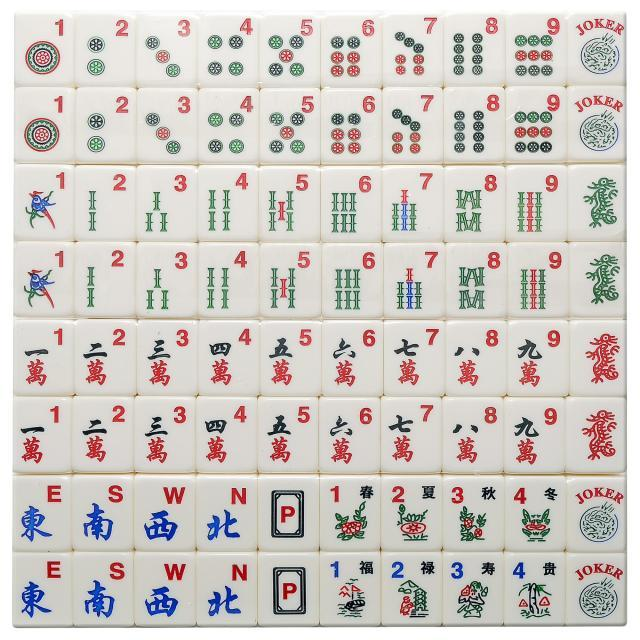bs1: (320, 476, 382, 550), (448, 480, 502, 548)
bs2: (384, 475, 444, 548)
bs4: (506, 477, 566, 551)
hdg: (570, 241, 626, 318), (569, 165, 625, 241)
hdr: (566, 397, 625, 472), (571, 320, 626, 396)
hdw: (258, 478, 318, 554), (260, 553, 320, 625)
hwe: (10, 477, 70, 554), (12, 552, 73, 626)
hwn: (196, 475, 256, 549), (196, 550, 256, 623)
hws: (74, 476, 136, 552), (73, 552, 135, 627)
hww: (134, 474, 196, 549), (137, 551, 194, 624)
sb1: (13, 242, 74, 316), (15, 165, 73, 239)
sb2: (76, 166, 137, 240), (76, 243, 137, 317)
sb3: (138, 244, 200, 320), (138, 167, 196, 241)
sb4: (200, 168, 258, 240), (203, 245, 257, 318)
sb5: (258, 246, 322, 316), (261, 169, 321, 243)
sb6: (324, 244, 384, 318), (323, 168, 383, 242)
sb7: (384, 244, 446, 319), (384, 168, 444, 242)
sb8: (446, 244, 506, 318), (448, 168, 507, 243)
sb9: (508, 167, 568, 242), (508, 244, 568, 318)
sc1: (13, 398, 72, 473), (15, 320, 74, 392)
sc2: (75, 398, 136, 472), (76, 322, 138, 394)
sc3: (136, 398, 197, 474), (137, 322, 197, 396)
sc4: (196, 398, 256, 472), (198, 322, 258, 394)
sc5: (262, 322, 324, 396), (259, 398, 318, 474)
sc6: (321, 399, 382, 475), (324, 318, 382, 397)
sc7: (384, 321, 446, 396), (382, 398, 442, 473)
sc8: (444, 320, 504, 396), (444, 400, 501, 472)
sc9: (507, 319, 568, 396), (504, 399, 564, 475)
sd1: (16, 90, 74, 162), (15, 13, 73, 84)
sd2: (76, 90, 136, 162), (76, 14, 136, 85)
sd3: (139, 89, 199, 163), (138, 16, 198, 87)
sd4: (197, 90, 257, 163), (198, 17, 258, 88)
sd5: (260, 18, 320, 86), (262, 92, 318, 160)
sd6: (322, 88, 382, 162), (322, 15, 382, 86)
sd7: (384, 90, 443, 162), (382, 15, 442, 84)
sd8: (446, 14, 504, 86), (448, 89, 502, 159)
sd9: (506, 89, 566, 162), (507, 16, 566, 86)
